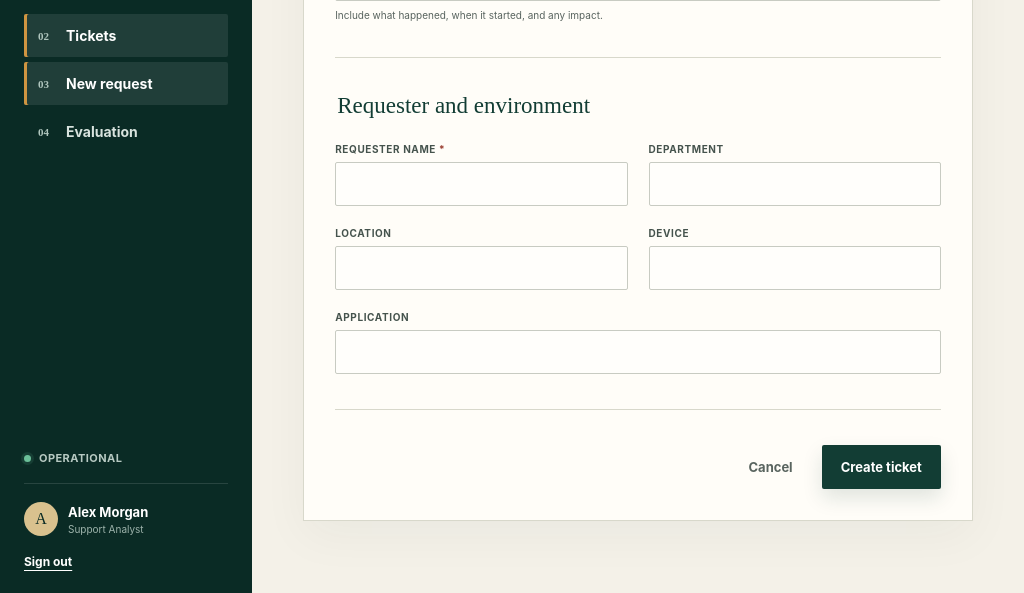
Test: CreateTicketPage › validates required intake fields
(page scrolled)
Click the button "Create ticket": (881, 467) [822,445,941,489]
(page scrolled)
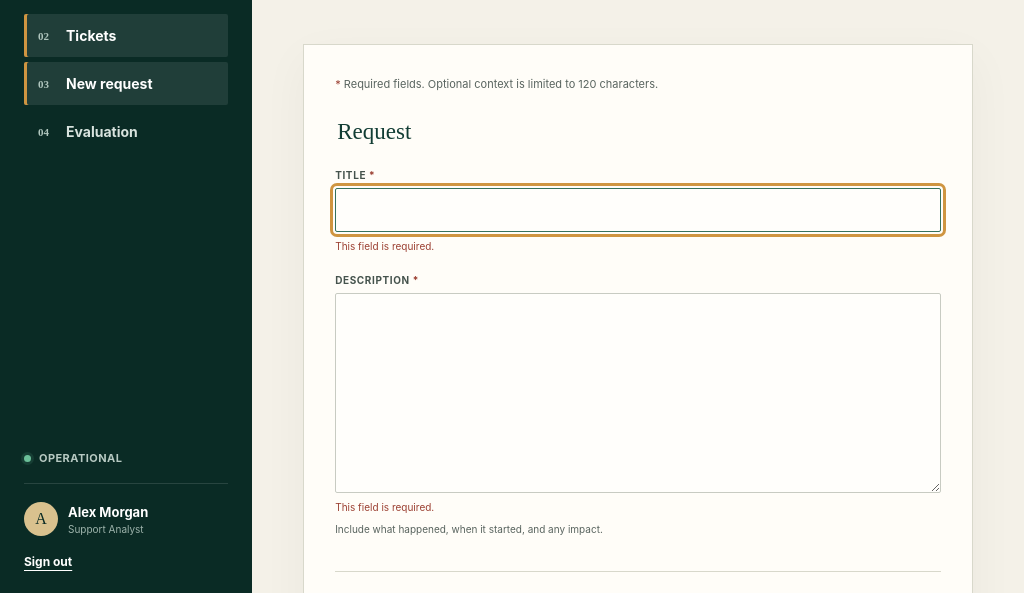
Expected: the text "This field is required." is shown 3 times
